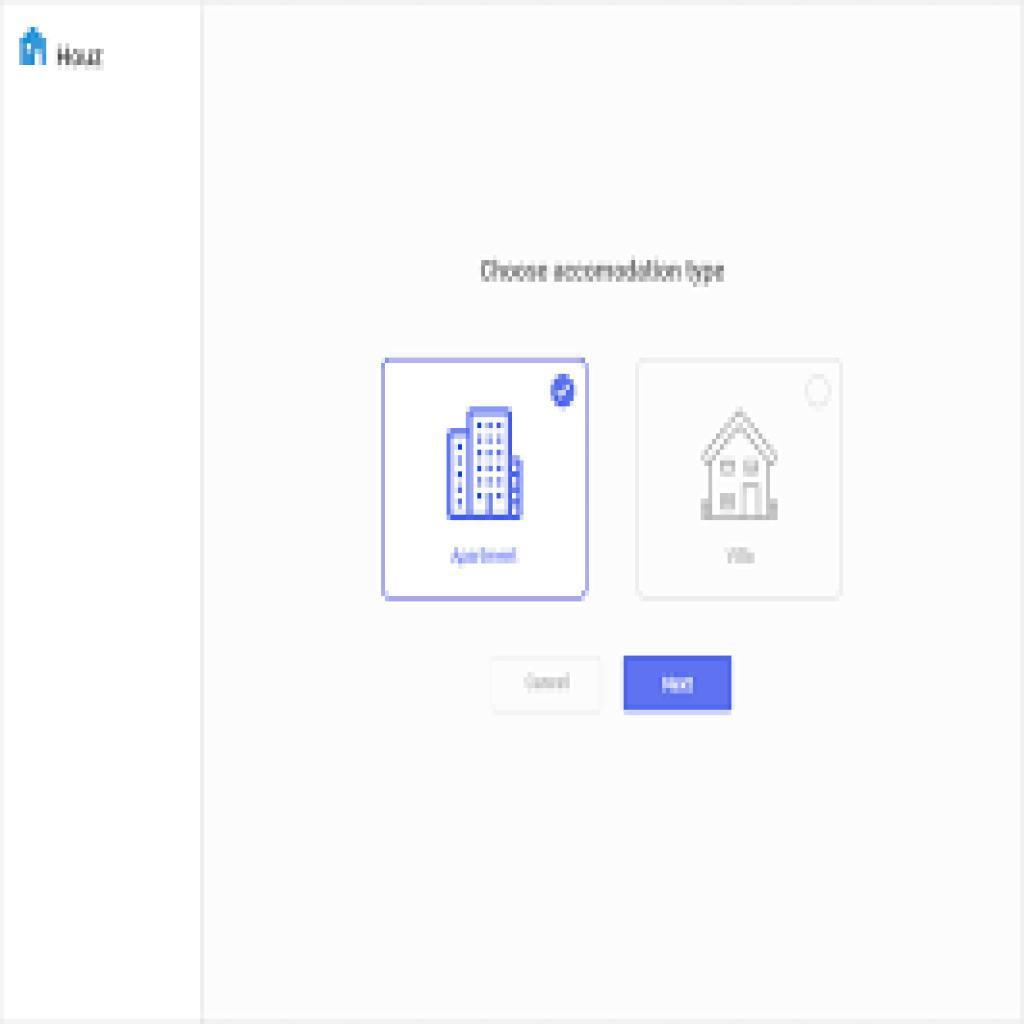button: (491, 658, 603, 713), (624, 657, 732, 711)
radio: (548, 371, 580, 414), (804, 374, 834, 414)
